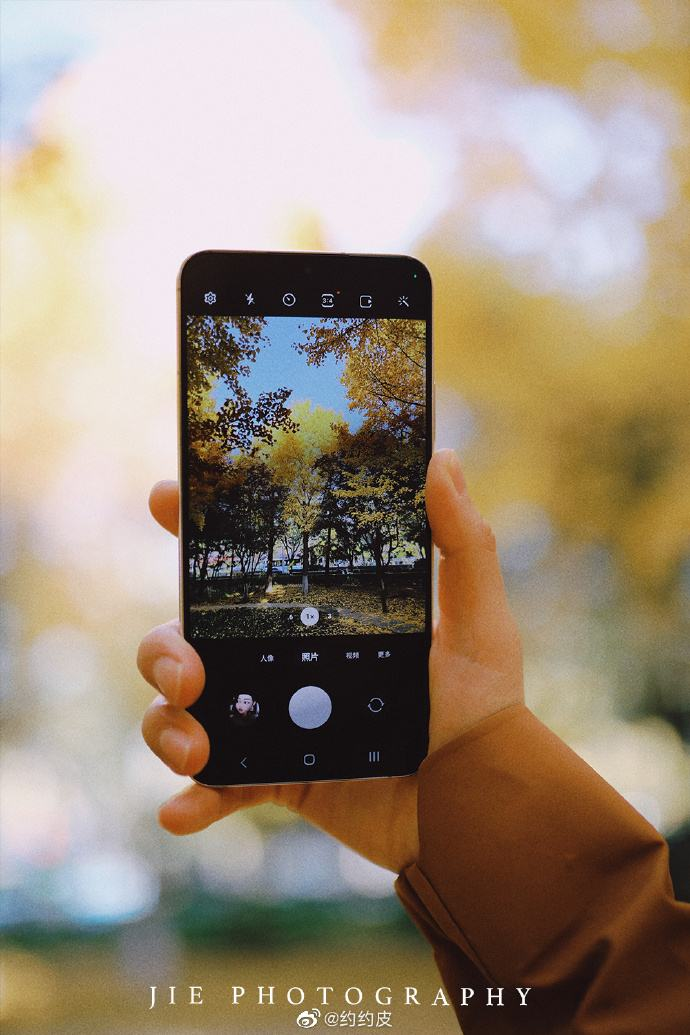taking photos: (124, 240, 541, 890)
